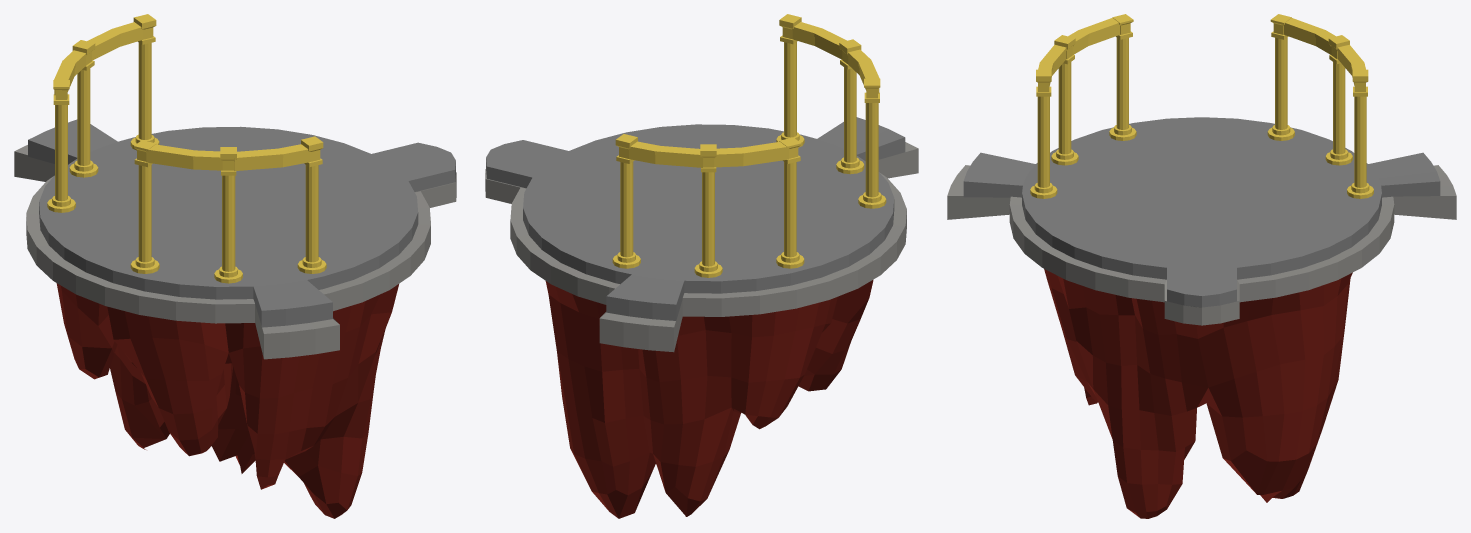
The model's file is IslandOne.fbx.
The picture shows the model from 3 angles, left to right: view 1: azimuth 30°, elevation 25°; view 2: azimuth 150°, elevation 25°; view 3: azimuth 270°, elevation 25°; orthographic projection. The views are drawn at different scales.
Parts seen in each view (by area): view 1: Cylinder.001, Retopo_Landscape.003, Cylinder.002, Cylinder.011, Cylinder.012, Cylinder.013, Cylinder.016, Cylinder.014; view 2: Cylinder.001, Retopo_Landscape.003, Cylinder.012, Cylinder.013, Cylinder.002, Cylinder.011, Cylinder.016, Cylinder.014; view 3: Cylinder.001, Retopo_Landscape.003, Cylinder.011, Cylinder.013, Cylinder.002, Cylinder.012, Cylinder.016, Cylinder.014.
Part boxes in pixels (<box>): Cylinder.001: <box>14,119,456,359</box>; Retopo_Landscape.003: <box>56,283,398,518</box>; Cylinder.002: <box>234,136,326,273</box>; Cylinder.011: <box>146,144,242,283</box>; Cylinder.012: <box>87,14,159,150</box>; Cylinder.013: <box>54,40,98,177</box>; Cylinder.016: <box>130,140,159,273</box>; Cylinder.014: <box>47,80,75,212</box>; Cylinder.001: <box>485,117,918,352</box>; Retopo_Landscape.003: <box>545,280,873,518</box>; Cylinder.012: <box>612,134,703,268</box>; Cylinder.013: <box>694,142,789,277</box>; Cylinder.002: <box>776,14,846,147</box>; Cylinder.011: <box>836,39,879,174</box>; Cylinder.016: <box>858,78,886,208</box>; Cylinder.014: <box>776,137,804,268</box>; Cylinder.001: <box>947,117,1456,325</box>; Retopo_Landscape.003: <box>1044,269,1352,518</box>; Cylinder.011: <box>1051,18,1121,165</box>; Cylinder.013: <box>1283,18,1352,165</box>; Cylinder.002: <box>1030,44,1066,198</box>; Cylinder.012: <box>1337,44,1373,198</box>; Cylinder.016: <box>1109,14,1136,140</box>; Cylinder.014: <box>1267,14,1294,140</box>.
Bounding box in the file's own units: 12129 × 12580 × 14178.
